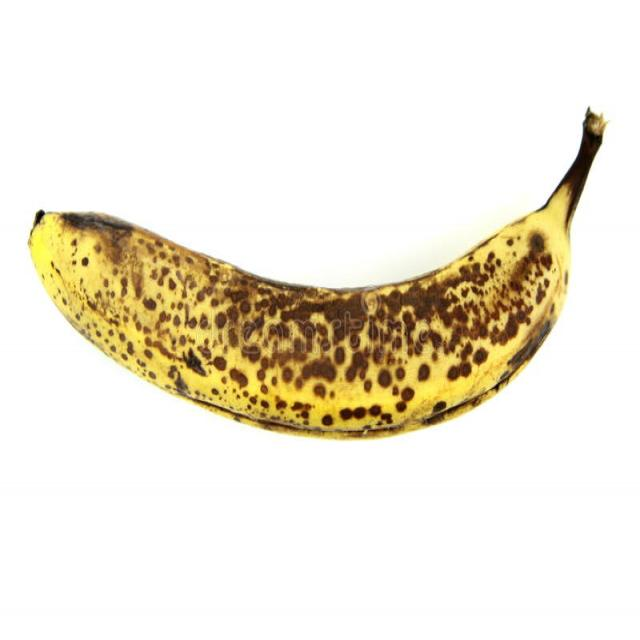Banana: (28, 115, 615, 430)
